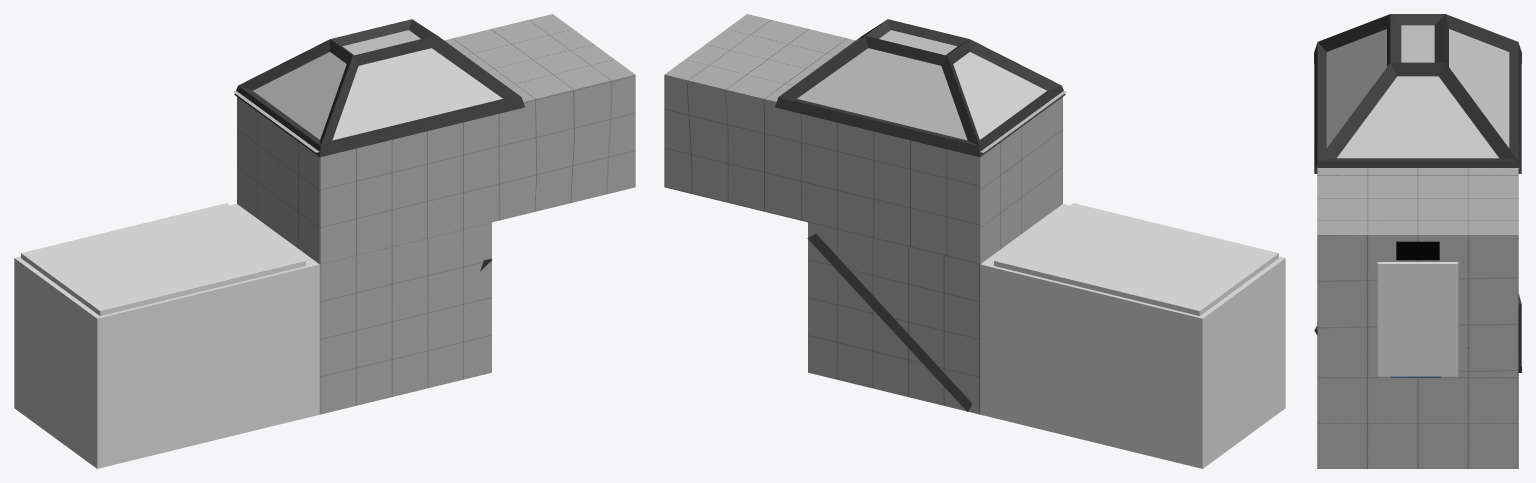
Rendered from tutorial_def.fbx.
3 views of the same model, side by side, from view 1: azimuth 30°, elevation 25°; view 2: azimuth 150°, elevation 25°; view 3: azimuth 270°, elevation 25° (orthographic). The views are drawn at different scales.
Parts seen in each view (by area): view 1: Plane, cielo_bien; view 2: Plane, cielo_bien, cielo_caido; view 3: Plane, cielo_bien, puerta, Cube.009, cielo_caido.
Part boxes in pixels (x1,y1,x2,y2): Plane: (14, 14, 635, 468); cielo_bien: (234, 19, 524, 157); Plane: (664, 14, 1285, 468); cielo_bien: (775, 19, 1065, 157); cielo_caido: (807, 233, 972, 411); Plane: (1317, 168, 1518, 468); cielo_bien: (1314, 14, 1521, 173); puerta: (1377, 262, 1458, 376); Cube.009: (1396, 241, 1439, 260); cielo_caido: (1314, 293, 1521, 372).
Bounding box in the file's own units: 1509 × 856 × 413.
